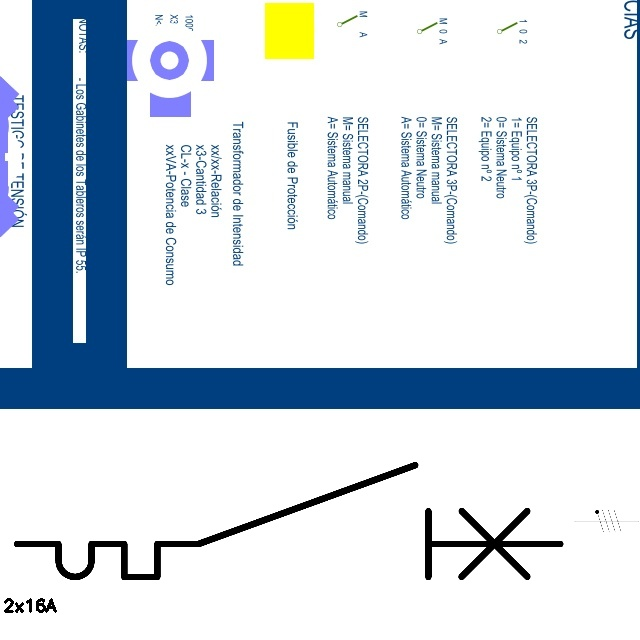interruptor_termomagnetico: (3, 451, 574, 591)
